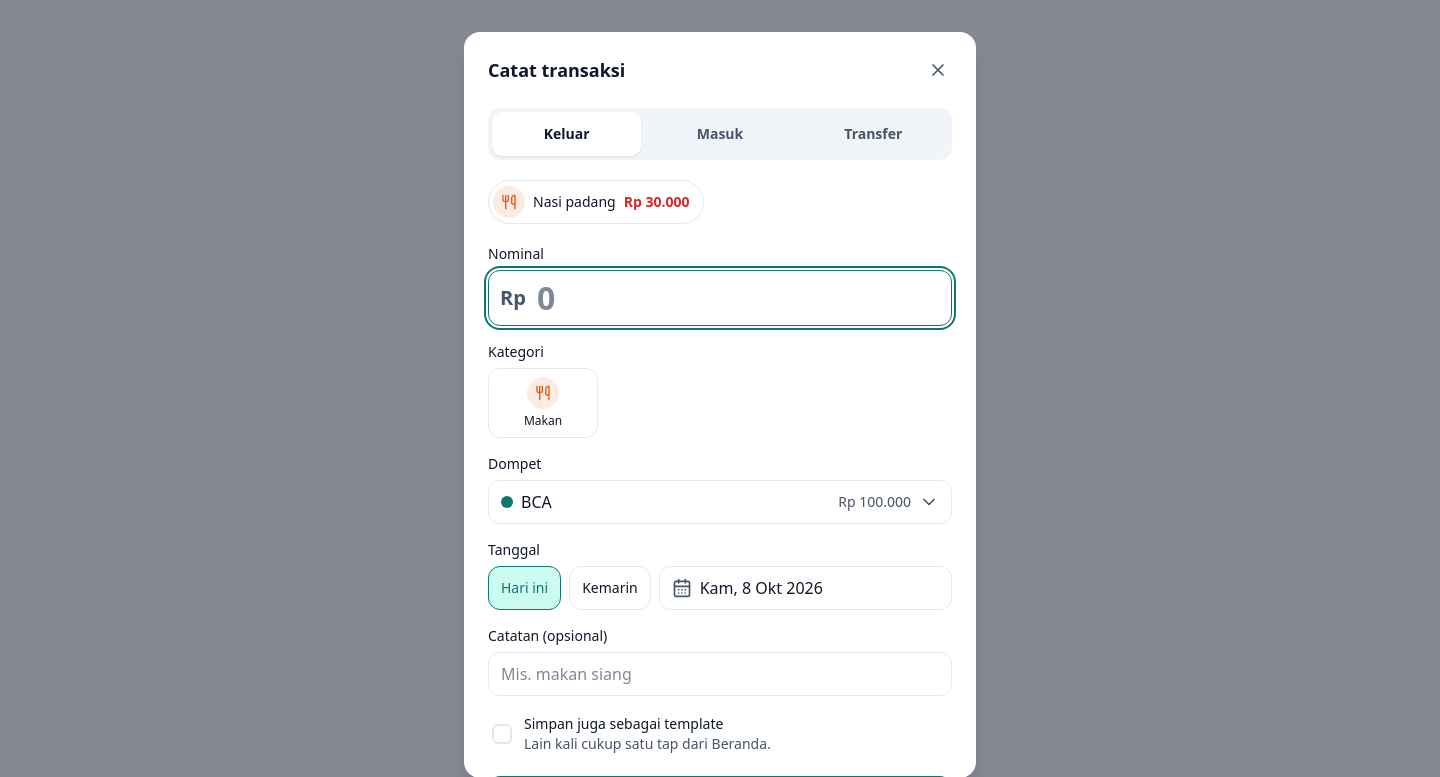
it: TransactionSheet (catat cepat) › chip template mengisi form tanpa langsung menyimpan
The width and height of the screenshot is (1440, 777).
Click the button "Nasi padang Rp 30.000".
click(596, 202)  # box [488,180,704,224]
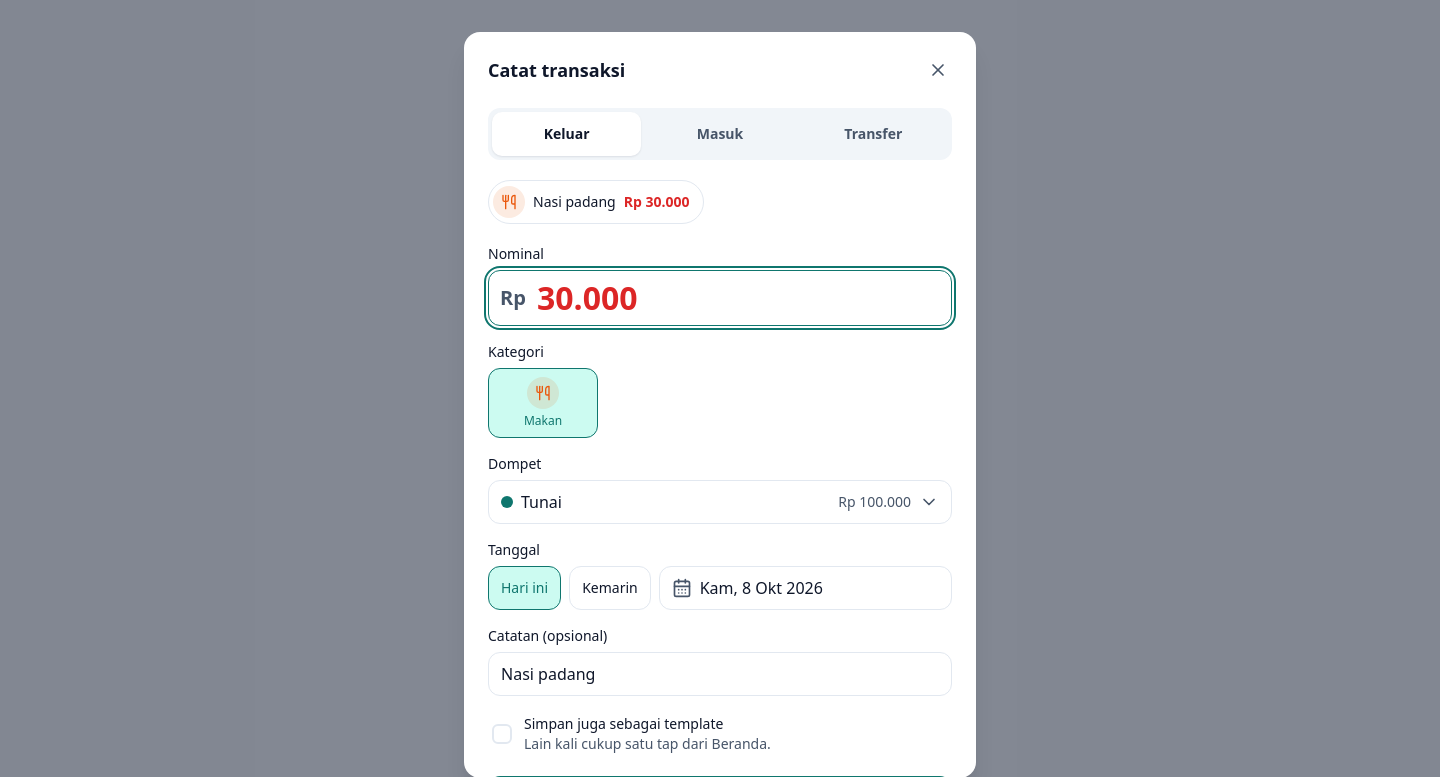
Expected: the field labelled "Nominal" holds "30.000", [488,270,952,326]
Expected: the radio button labelled "Makan" is checked, [488,368,598,438]
Expected: the dropdown named "Dompet" shows "Tunai", [488,480,952,524]
